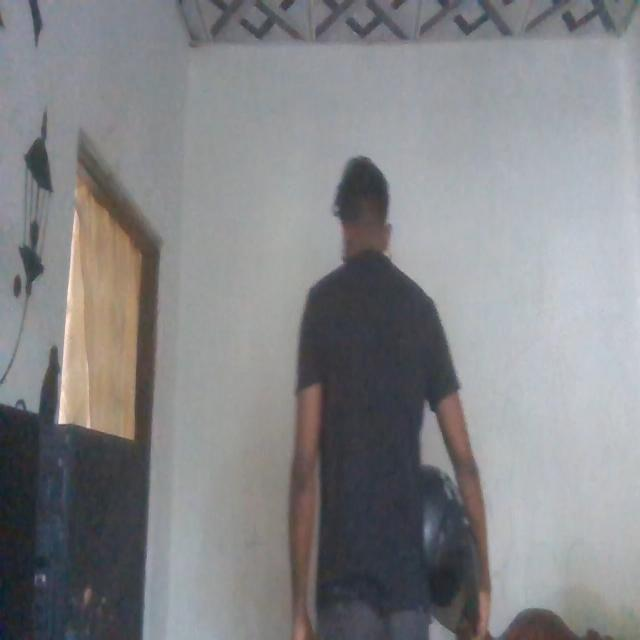Person: (279, 150, 476, 640)
